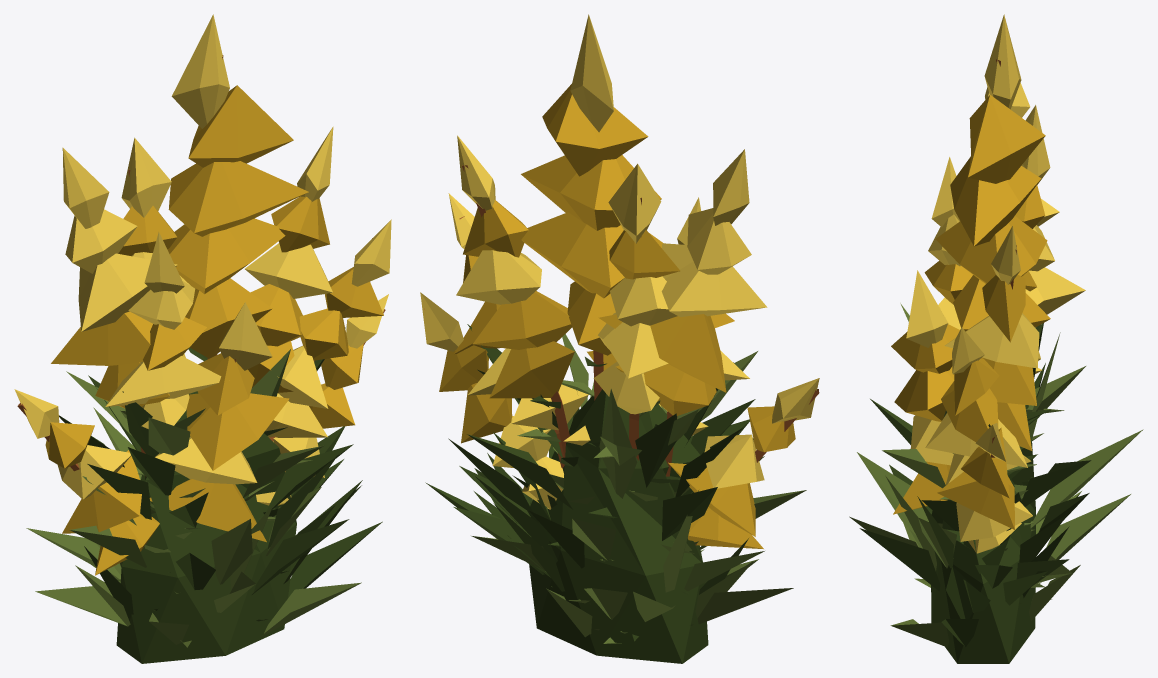
The model's file is goldenrod.glb.
3 views of the same model, side by side, from view 1: azimuth 30°, elevation 25°; view 2: azimuth 150°, elevation 25°; view 3: azimuth 270°, elevation 25° (orthographic). The views are drawn at different scales.
Parts seen in each view (by area): view 1: plumes_gold, plumes_light, leaves_dark, leaves_green; view 2: plumes_gold, leaves_dark, plumes_light, leaves_green, stems; view 3: plumes_gold, plumes_light, leaves_dark, leaves_green.
Boxes of the visible parts, box(x1,y1,x2,y2) form: plumes_gold: box(45, 85, 383, 575); plumes_light: box(14, 14, 391, 505); leaves_dark: box(59, 327, 382, 663); leaves_green: box(26, 349, 361, 647); plumes_gold: box(439, 84, 795, 548); leaves_dark: box(425, 324, 755, 663); plumes_light: box(420, 14, 819, 509); leaves_green: box(471, 334, 806, 643); stems: box(424, 165, 819, 545); plumes_gold: box(891, 95, 1050, 529); plumes_light: box(906, 14, 1085, 553); leaves_dark: box(859, 323, 1091, 663); leaves_green: box(849, 303, 1143, 647).
Size of the model in its own units: 0.5475 by 0.837 by 0.357.
